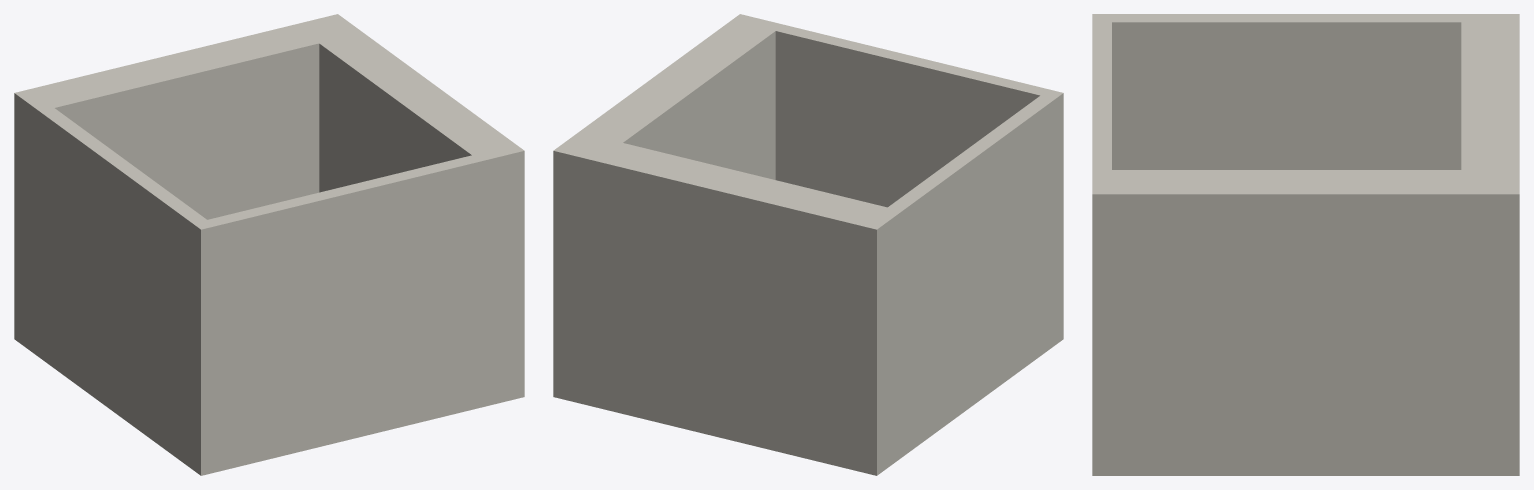
Rendered from white_shelf2.fbx.
The picture shows the model from 3 angles, left to right: view 1: azimuth 30°, elevation 25°; view 2: azimuth 150°, elevation 25°; view 3: azimuth 270°, elevation 25°; orthographic projection. The views are drawn at different scales.
Visible parts, largest first — view 1: Cube; view 2: Cube; view 3: Cube.
Boxes of the visible parts, x1,y1,x2,y2 form: Cube: (14, 14, 524, 475); Cube: (553, 14, 1063, 475); Cube: (1092, 14, 1519, 475).
Bounding box in the file's own units: 220 × 160 × 220.
